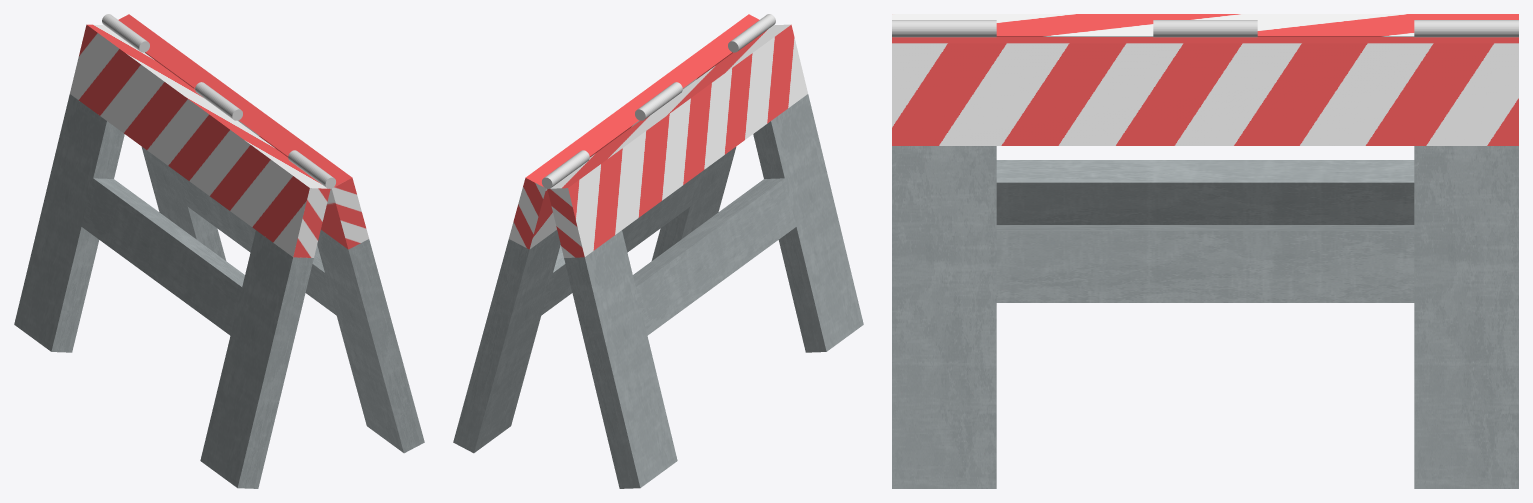
Rendered from roadBlock2.fbx.
The picture shows the model from 3 angles, left to right: view 1: azimuth 30°, elevation 25°; view 2: azimuth 150°, elevation 25°; view 3: azimuth 270°, elevation 25°; orthographic projection. The views are drawn at different scales.
Visible parts, largest first — view 1: Cube.007, Cube, Cube.001, Cube.003, Cube.002, Cube.006, Cube.005, Cube.004, Cylinder.002, Cylinder, Cylinder.001; view 2: Cube.007, Cube.001, Cube, Cube.004, Cube.002, Cube.006, Cube.005, Cube.003, Cylinder, Cylinder.002, Cylinder.001; view 3: Cube.006, Cube.003, Cube.004, Cube.005, Cube.002, Cube.007, Cylinder, Cylinder.001, Cylinder.002.
Boxes of the visible parts, x1,y1,x2,y2 form: Cube.007: (70,24,330,257); Cube: (200,230,313,488); Cube.001: (14,94,124,352); Cube.003: (317,230,424,453); Cube.002: (81,178,244,335); Cube.006: (118,14,368,249); Cube.005: (179,174,336,315); Cube.004: (141,147,226,260); Cylinder.002: (102,14,149,52); Cylinder: (288,150,335,188); Cylinder.001: (195,82,242,120); Cube.007: (547,24,807,257); Cube.001: (564,230,677,488); Cube: (753,94,863,352); Cube.004: (453,230,560,453); Cube.002: (633,178,796,335); Cube.006: (509,14,759,249); Cube.005: (541,174,698,315); Cube.003: (651,147,736,260); Cylinder: (728,14,775,52); Cylinder.002: (542,150,589,188); Cylinder.001: (635,82,682,120); Cube.006: (892,37,1518,145); Cube.003: (892,146,996,488); Cube.004: (1414,146,1518,488); Cube.005: (996,225,1414,302); Cube.002: (996,160,1414,224); Cube.007: (892,14,1518,36); Cylinder: (892,20,996,37); Cylinder.001: (1153,20,1257,37); Cylinder.002: (1414,20,1518,37).
Size of the model in its own units: 174 by 261 by 360.
